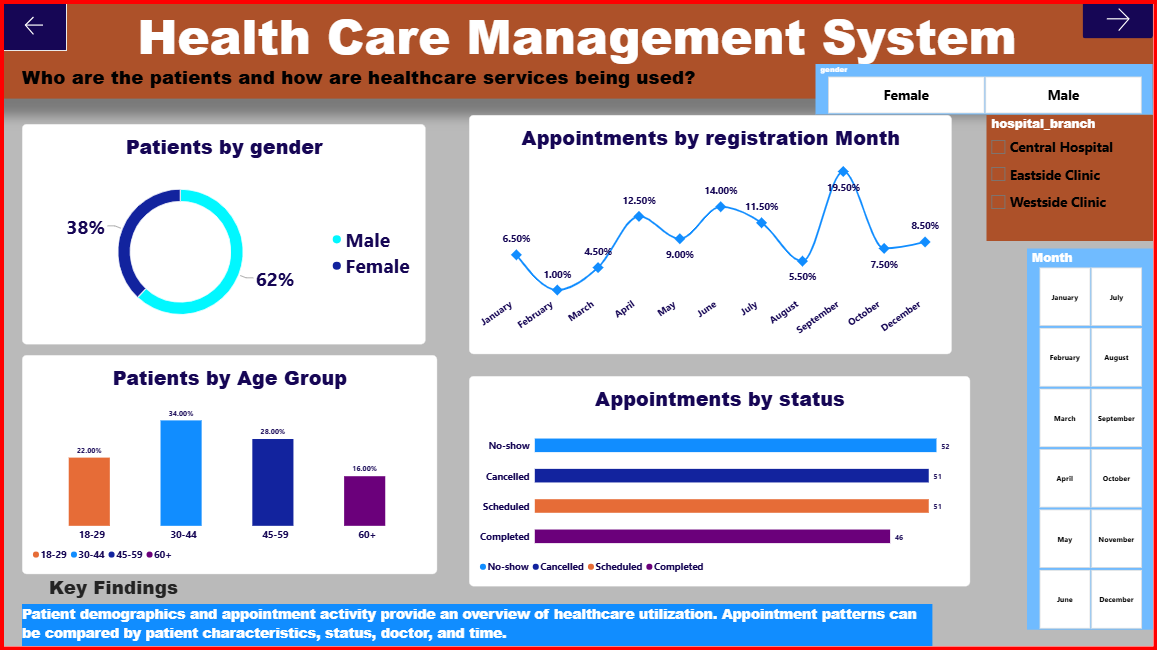

The page's visual inventory and layout, read from the dashboard file:
{"tool":"powerbi","page":{"name":"PATIENT & APPOINTMENT ANALYSIS","canvas":[1920,1080],"ordinal":1},"visuals":[{"type":"textbox","title":" Health Care Management System","box":[0,0,1920,162.5],"z":0},{"type":"donutChart","title":"Patients by gender","fields":{"Category":["cleaned_patients.gender"],"Y":["Descriptive Analys.Total Patients"]},"box":[35.8,205.2,672.8,367.4],"z":1000},{"type":"barChart","title":" Appointments by status ","fields":{"Category":["cleaned_appointments.status"],"Series":["cleaned_appointments.status"],"Y":["Descriptive Analys.Total Appointments"]},"box":[780,625,835.1,350.7],"z":2000},{"type":"columnChart","title":" Patients by Age Group ","fields":{"Category":["cleaned_patients.Age Group"],"Series":["cleaned_patients.Age Group"],"Y":["Descriptive Analys.Total Patients"]},"box":[35.8,589.3,691.9,365],"z":3000},{"type":"slicer","fields":{"Values":["cleaned_doctors.hospital_branch"]},"box":[1641.5,190.9,279.2,210],"z":4000},{"type":"slicer","fields":{"Values":["DateTable.Month"]},"box":[1710,412.5,210,635],"z":5000},{"type":"shape","title":"Key Findings","box":[80,955,1535,50],"z":6000},{"type":"textbox","title":"Who are the patients and how are healthcare services being used?","box":[35,105,1262.5,90],"z":7000},{"type":"actionButton","box":[1802.5,0,117.5,62.5],"z":8000},{"type":"actionButton","box":[0,0,110,82.5],"z":9000},{"type":"lineChart","title":"Appointments by  registration Month","fields":{"Category":["cleaned_patients.registration_date.Variation.Date Hierarchy.Month"],"Y":["Descriptive Analys.Total Appointments"]},"box":[780.7,189.8,804.7,398.7],"z":10000},{"type":"slicer","fields":{"Values":["cleaned_patients.gender"]},"box":[1357.1,105.7,562.1,84.1],"z":11000},{"type":"shape","title":"Patient demographics and appointment activity provide an overview of healthcare utilization. Appointment patterns can be compared by patient characteristics, status, doctor, and time.","box":[35,1005,1517.5,75],"z":12000}]}

Visuals, with their boxes in screenshot pixels (x1, y1, x2, y2), scaled from the page's 1920x1080 canvas onto the 1157x650 screenshot:
" Health Care Management System" textbox: box=[0, 0, 1156, 98]
"Patients by gender" donutChart: box=[22, 124, 427, 345]
" Appointments by status " barChart: box=[470, 376, 973, 587]
" Patients by Age Group " columnChart: box=[22, 355, 439, 574]
slicer - cleaned_doctors.hospital_branch: box=[989, 115, 1156, 241]
slicer - DateTable.Month: box=[1030, 248, 1156, 630]
"Key Findings" shape: box=[48, 575, 973, 605]
"Who are the patients and how are healthcare services being used?" textbox: box=[21, 63, 782, 117]
actionButton: box=[1086, 0, 1156, 38]
actionButton: box=[0, 0, 66, 50]
"Appointments by  registration Month" lineChart: box=[470, 114, 955, 354]
slicer - cleaned_patients.gender: box=[818, 64, 1156, 114]
"Patient demographics and appointment activity provide an overview of healthcare utilization. Appointment patterns can be compared by patient characteristics, status, doctor, and time." shape: box=[21, 605, 936, 649]
